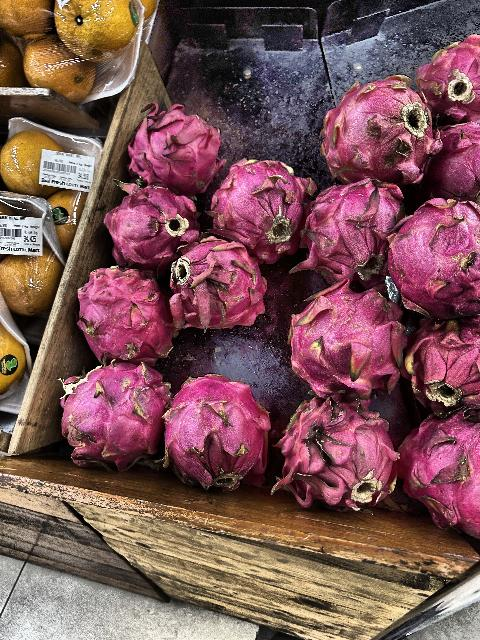buah-naga-matang: (289, 271, 409, 394), (168, 368, 270, 497), (313, 69, 430, 181), (289, 392, 393, 518), (396, 406, 480, 560), (70, 356, 166, 484), (388, 187, 480, 317), (70, 257, 174, 357), (304, 172, 396, 276), (212, 150, 300, 254), (131, 106, 224, 192), (106, 177, 208, 255), (404, 308, 480, 410), (166, 238, 262, 318), (414, 34, 480, 118), (422, 105, 480, 198)
